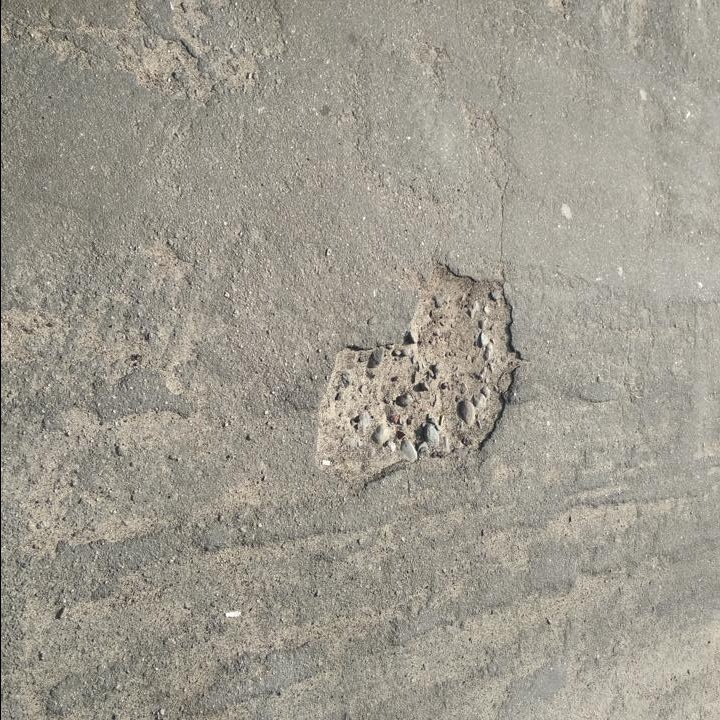pothole: (307, 256, 526, 493)
